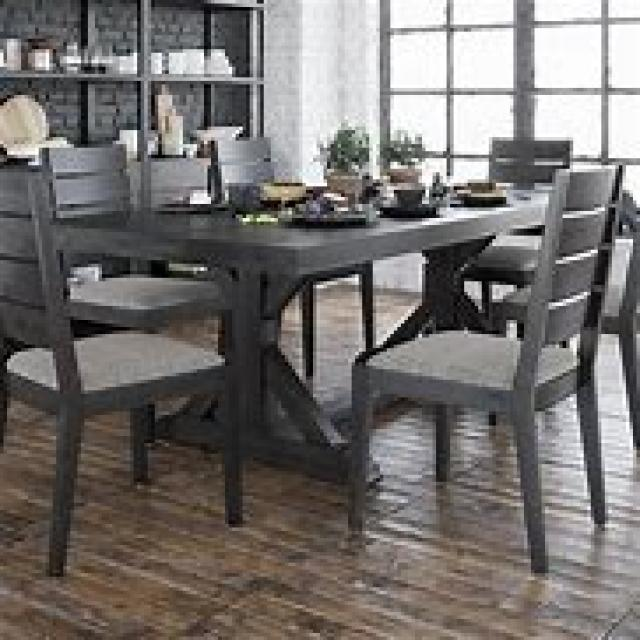chair: (344, 165, 616, 573), (0, 158, 243, 577)
table: (35, 180, 566, 520)
